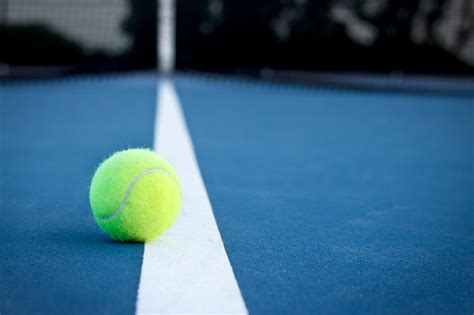tennis_ball: (88, 147, 184, 242)
